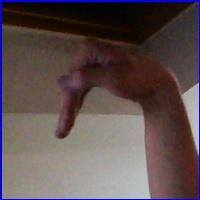del: (54, 32, 174, 147)
